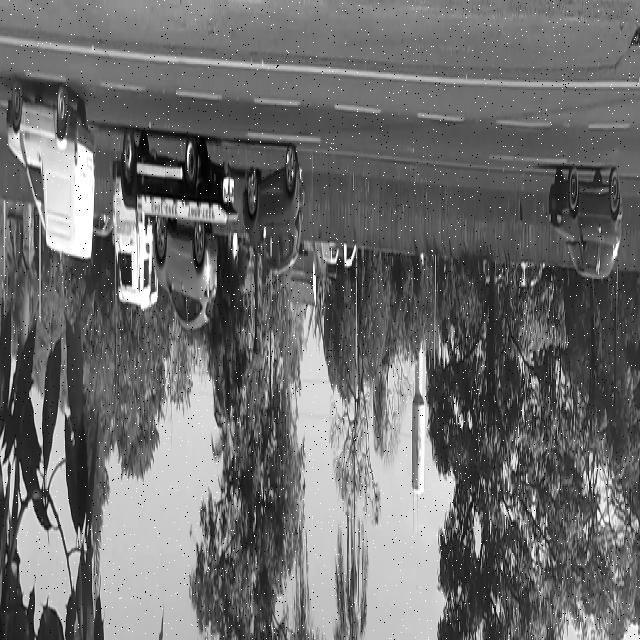-axle: (182, 122, 202, 206), (118, 113, 136, 185)
